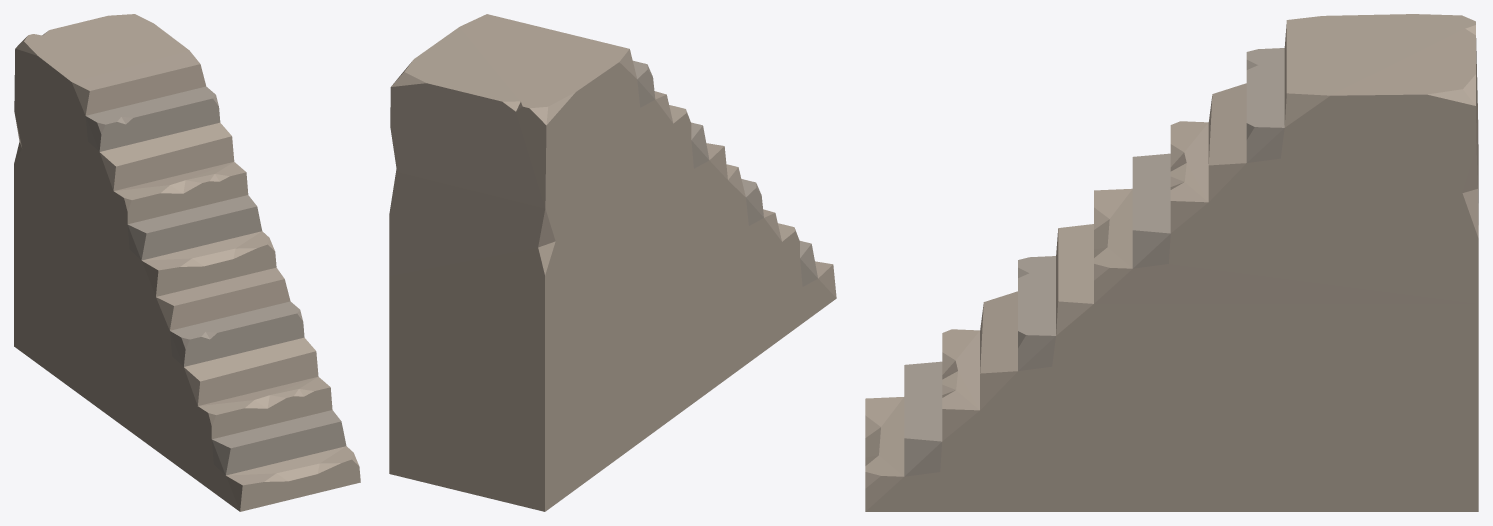
Rendered from SM_Bld_Village_Stairs_03.fbx.
The picture shows the model from 3 angles, left to right: view 1: azimuth 30°, elevation 25°; view 2: azimuth 150°, elevation 25°; view 3: azimuth 270°, elevation 25°; orthographic projection. The views are drawn at different scales.
Parts seen in each view (by area): view 1: SM_Bld_Village_Stairs_03; view 2: SM_Bld_Village_Stairs_03; view 3: SM_Bld_Village_Stairs_03.
Part boxes in pixels (x1,y1,x2,y2): SM_Bld_Village_Stairs_03: (14, 14, 360, 511); SM_Bld_Village_Stairs_03: (389, 14, 836, 511); SM_Bld_Village_Stairs_03: (865, 14, 1478, 511).
Bounding box in the file's own units: 132 × 324 × 429.
